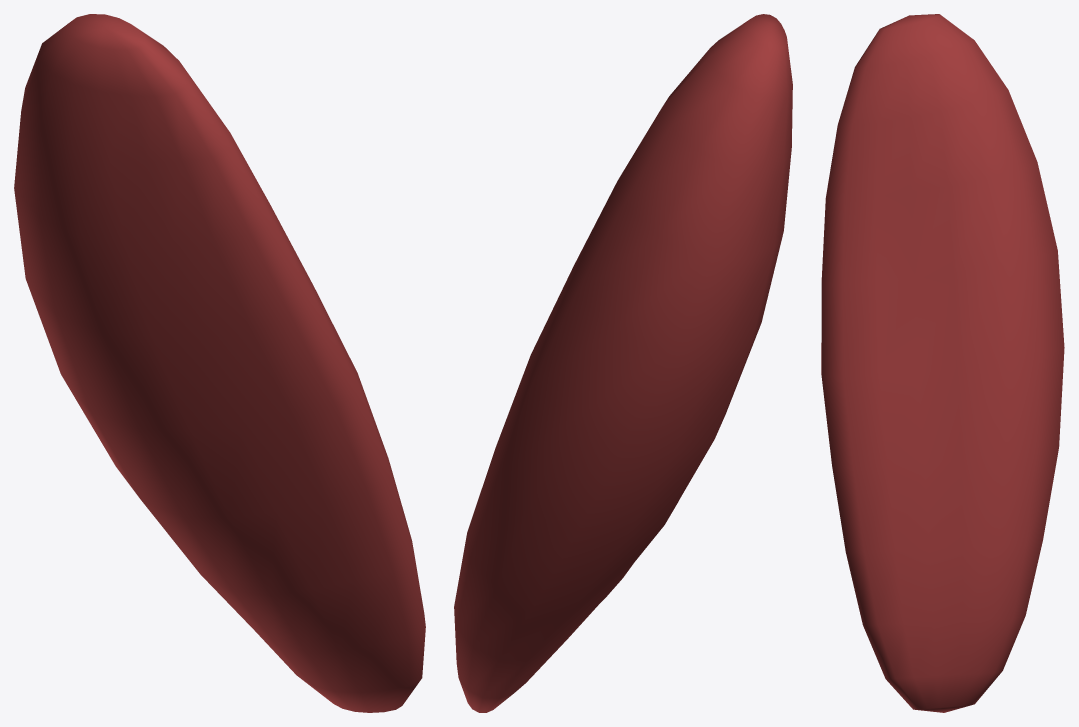
The model's file is subtendinous-bursa-of-teres-major-muscle-l.glb.
The picture shows the model from 3 angles, left to right: view 1: azimuth 30°, elevation 25°; view 2: azimuth 150°, elevation 25°; view 3: azimuth 270°, elevation 25°; orthographic projection. The views are drawn at different scales.
Parts seen in each view (by area): view 1: Subtendinous bursa of teres major muscle.l; view 2: Subtendinous bursa of teres major muscle.l; view 3: Subtendinous bursa of teres major muscle.l.
Part boxes in pixels (box(x1,y1,x2,y2)): Subtendinous bursa of teres major muscle.l: box(14, 14, 425, 712); Subtendinous bursa of teres major muscle.l: box(454, 14, 792, 712); Subtendinous bursa of teres major muscle.l: box(821, 14, 1064, 712).
Size of the model in its own units: 0.0124 by 0.0262 by 0.00978.
